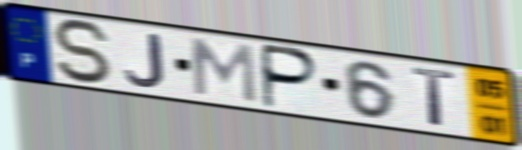6: (341, 59, 398, 121)
J: (122, 32, 168, 90)
M: (188, 36, 260, 106)
P: (261, 41, 322, 111)
S: (49, 17, 118, 87)
T: (409, 65, 460, 131)
